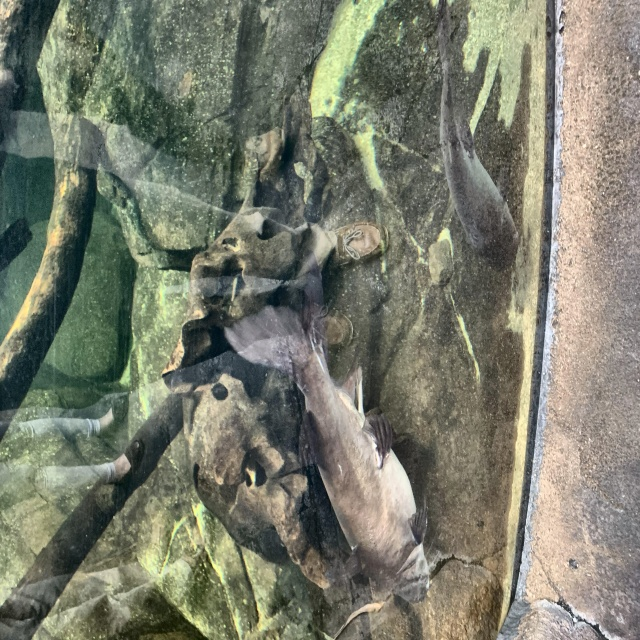fish: (221, 262, 433, 607), (435, 15, 523, 280)
